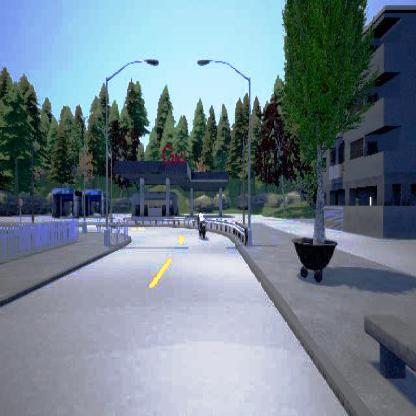bike: (195, 208, 207, 239)
